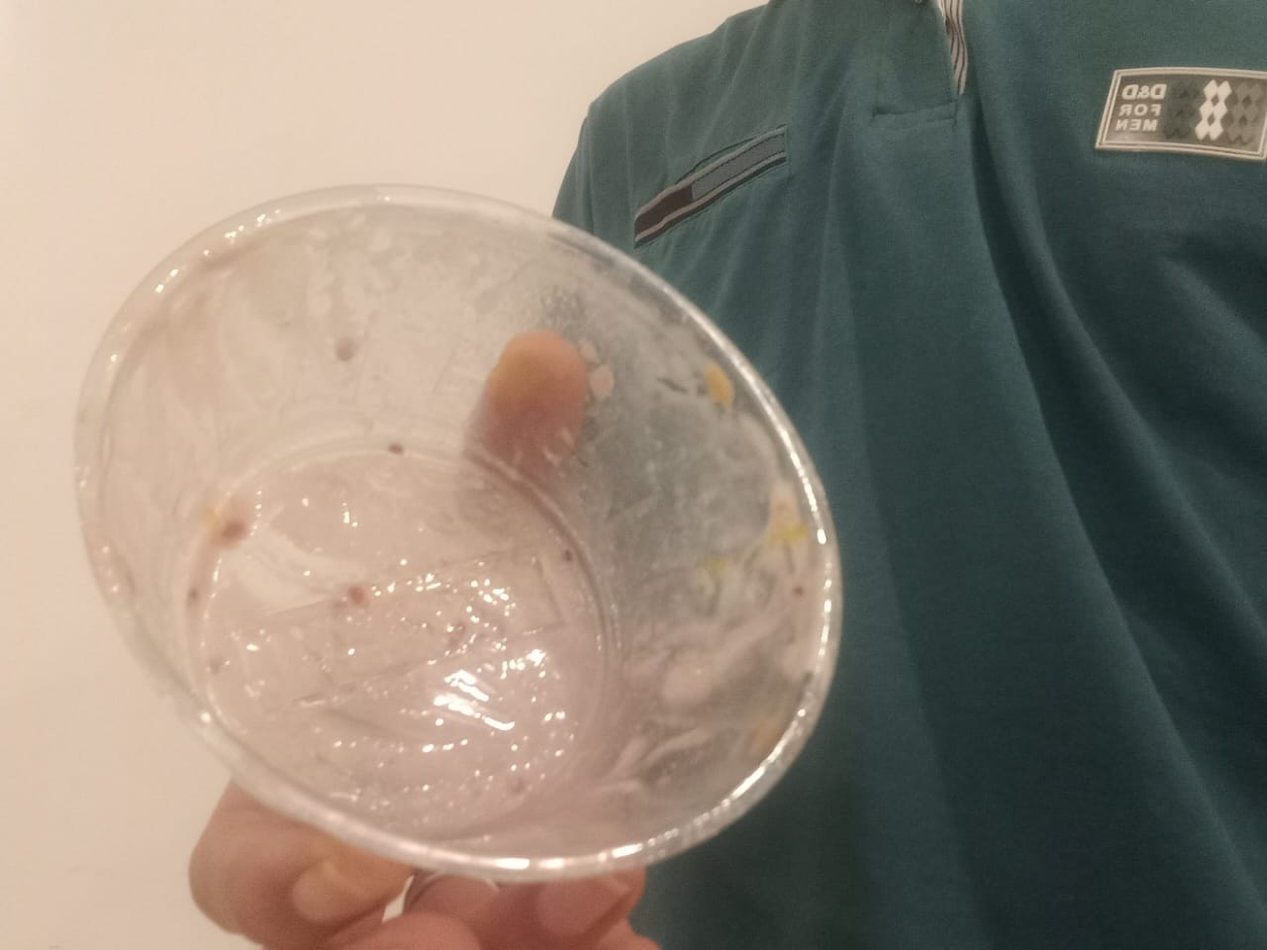Plastico: (74, 183, 846, 884)
